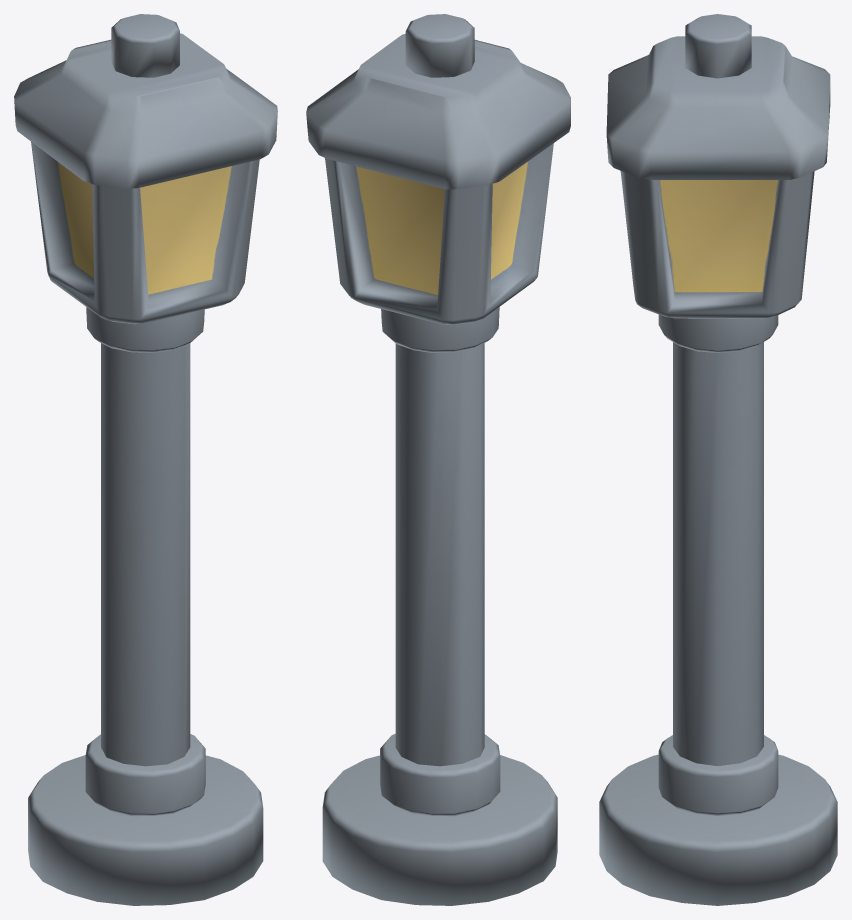
Rendered from lamp_v2.glb.
3 views of the same model, side by side, from view 1: azimuth 30°, elevation 25°; view 2: azimuth 150°, elevation 25°; view 3: azimuth 270°, elevation 25° (orthographic).
Parts seen in each view (by area): view 1: tripo_node_c54eb07d-0584-43c4-8418-ef3cc0186367; view 2: tripo_node_c54eb07d-0584-43c4-8418-ef3cc0186367; view 3: tripo_node_c54eb07d-0584-43c4-8418-ef3cc0186367.
Boxes of the visible parts, left/top/right/bottom form: tripo_node_c54eb07d-0584-43c4-8418-ef3cc0186367: left=14, top=14, right=277, bottom=905; tripo_node_c54eb07d-0584-43c4-8418-ef3cc0186367: left=306, top=14, right=570, bottom=905; tripo_node_c54eb07d-0584-43c4-8418-ef3cc0186367: left=599, top=14, right=837, bottom=905.
Bounding box in the file's own units: 0.2598 × 0.998 × 0.2598.
1 material, 1 textured.
